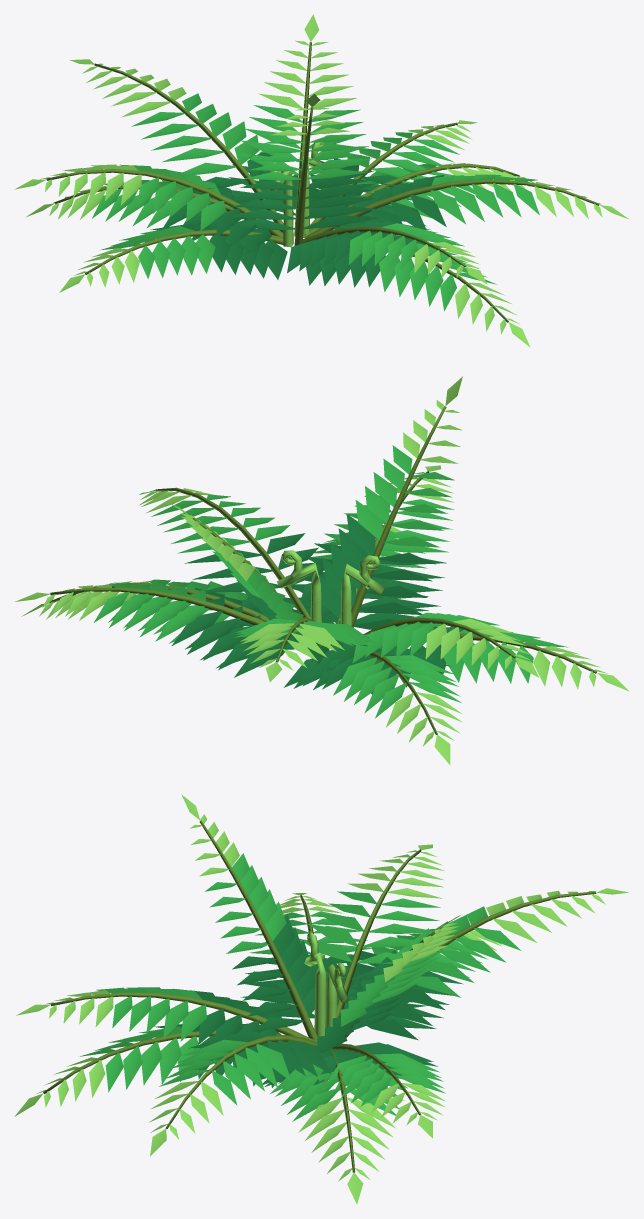
Rendered from fern_a.glb.
3 renders of one model, top to bottom at view 1: azimuth 30°, elevation 25°; view 2: azimuth 150°, elevation 25°; view 3: azimuth 270°, elevation 25°, orthographic. The views are drawn at different scales.
Visible parts, largest first — view 1: fern_a_mesh; view 2: fern_a_mesh; view 3: fern_a_mesh.
Part boxes in pixels (bbox=[...]): fern_a_mesh: bbox=[14, 14, 629, 347]; fern_a_mesh: bbox=[15, 376, 629, 765]; fern_a_mesh: bbox=[14, 794, 628, 1204].
Size of the model in its own units: 1.76 by 0.7614 by 1.7.
